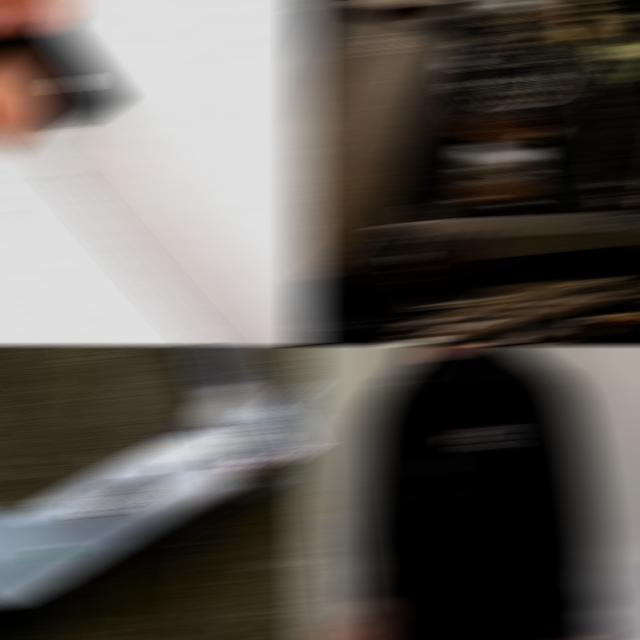Knife: (0, 25, 303, 344)
Knife_Handle: (0, 0, 316, 344), (318, 482, 379, 640)
